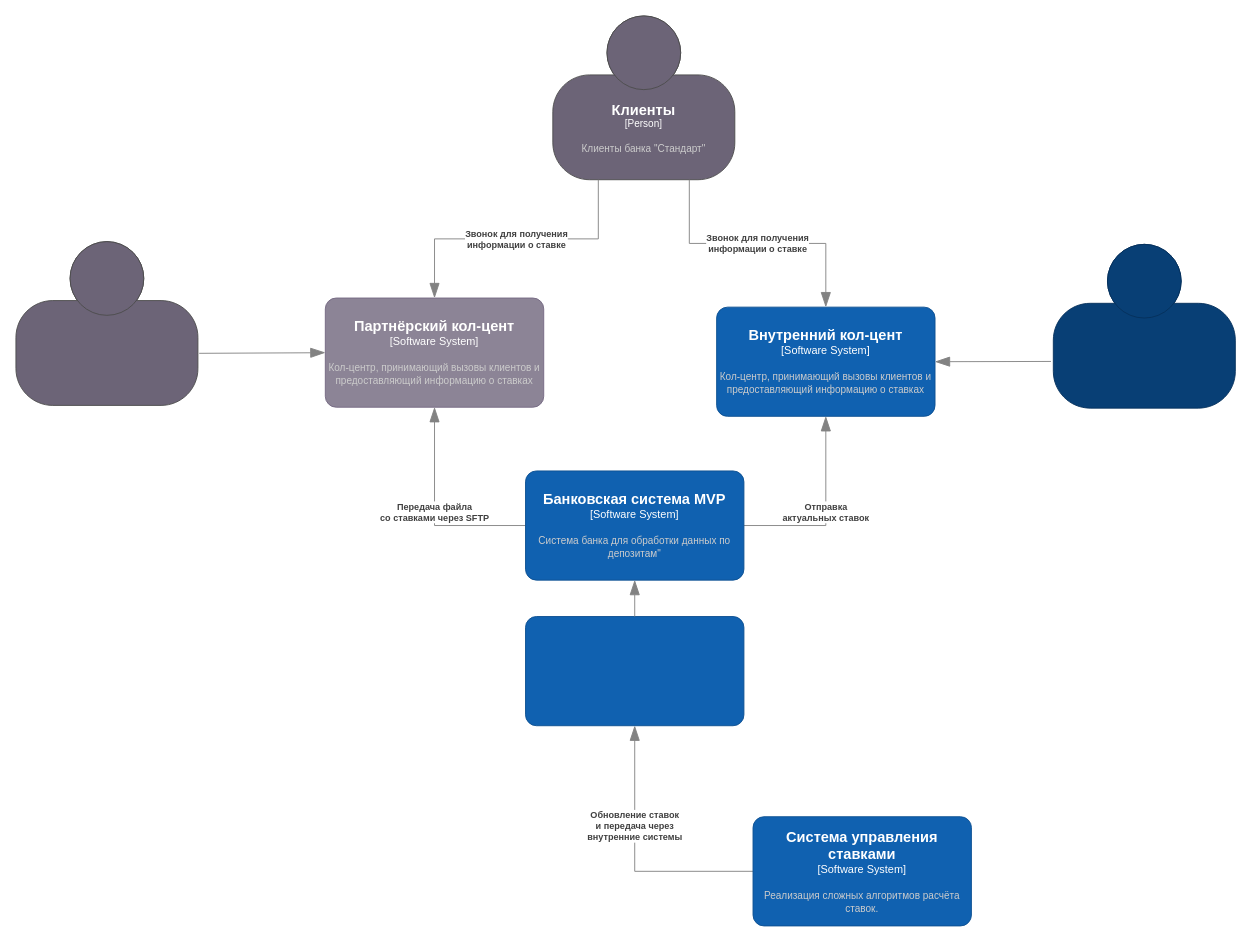
This 1251x942 diagram has some shape labels left out. Each missing label, with the centre of its shape:
Сервис обработки событий [Software System] Event Processor: pixel 634 671
Сотрудники кол-центра банка [Person]: pixel 1143 325
Сотрудники партнёрского кол-центра [Person]: pixel 106 323
